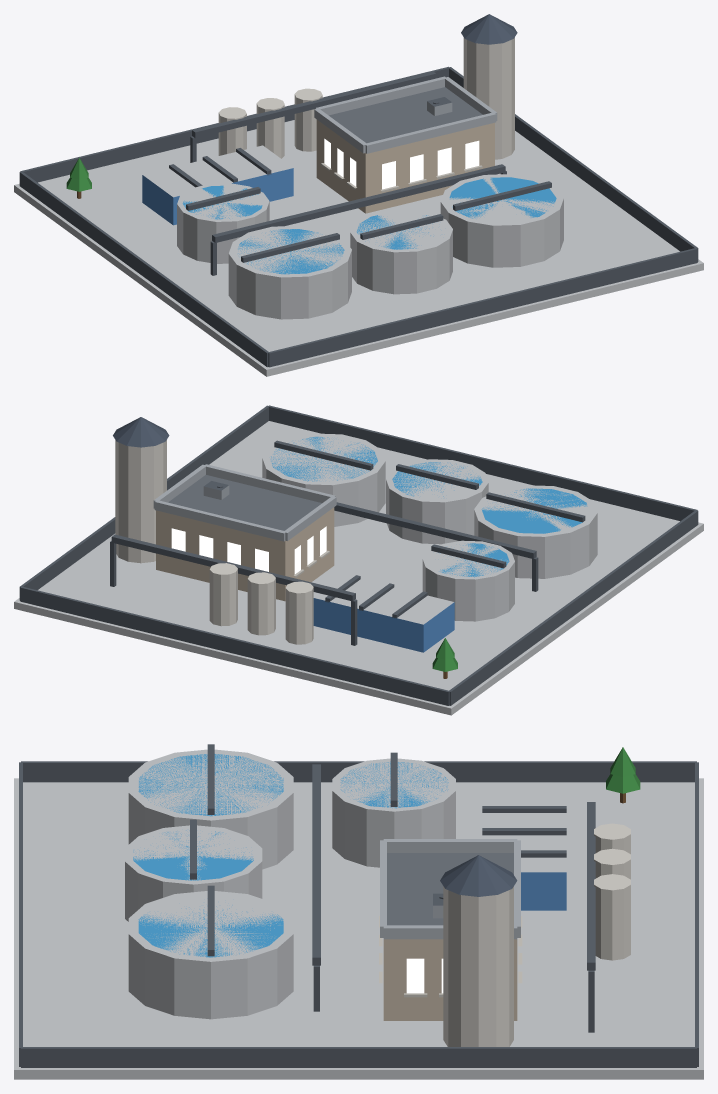
The picture shows the model from 3 angles, top to bottom: view 1: azimuth 30°, elevation 25°; view 2: azimuth 150°, elevation 25°; view 3: azimuth 270°, elevation 25°; orthographic projection. The views are drawn at different scales.
Parts seen in each view (by area): view 1: b34_x2; view 2: b34_x2; view 3: b34_x2.
Part boxes in pixels (<box>): b34_x2: <box>14,14,703,376</box>; b34_x2: <box>14,405,703,715</box>; b34_x2: <box>14,744,703,1079</box>.
Bounding box in the file's own units: 1.96 × 0.61 × 1.96.
